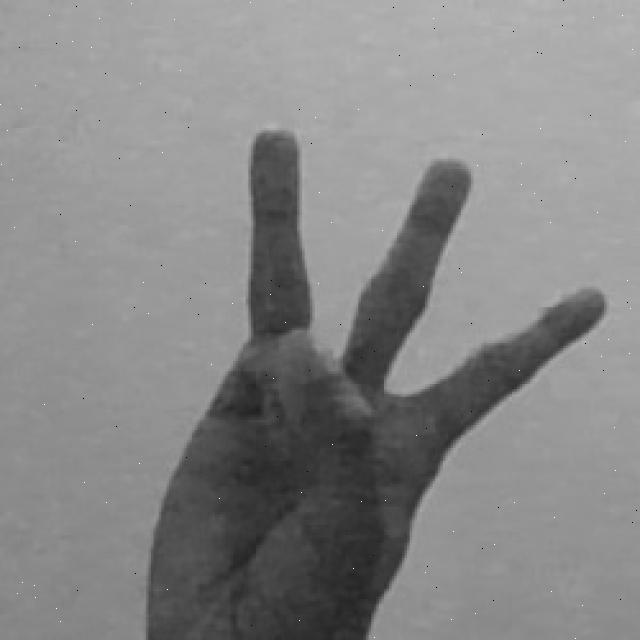W: (131, 117, 618, 640)
